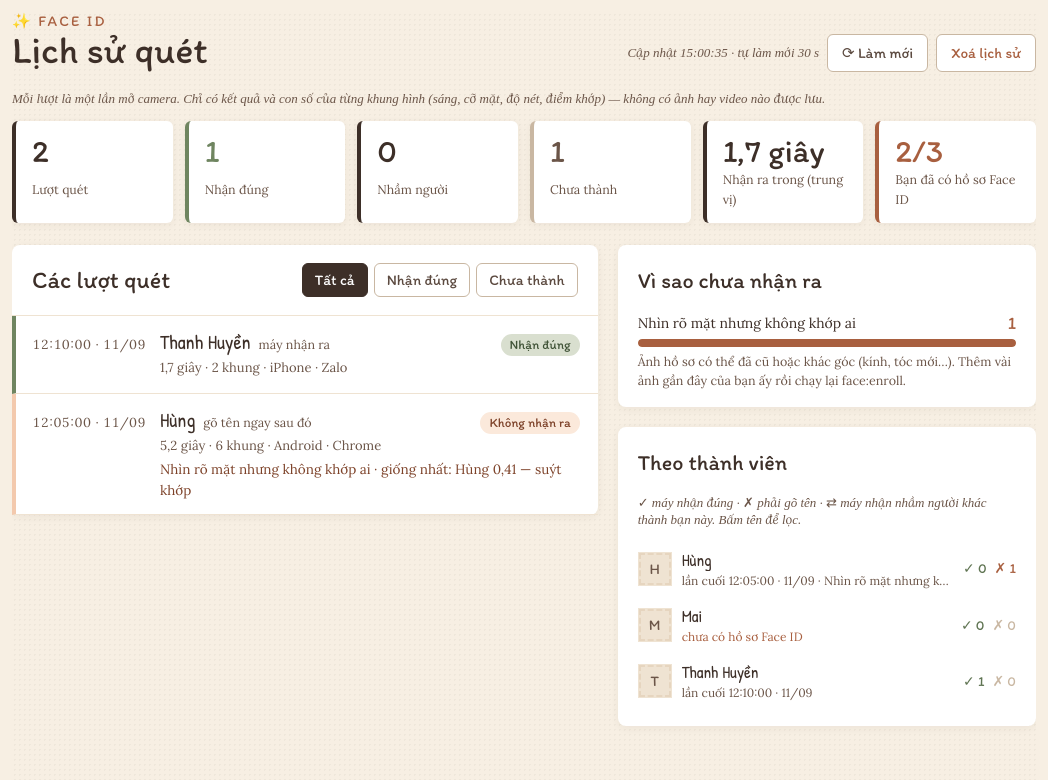
Test case: opening a scan loads its frames and flags the numbers below the quality gate
This screenshot has width=1048, height=780.
Click the button "Hùng": (307, 454) [16,394,598,514]
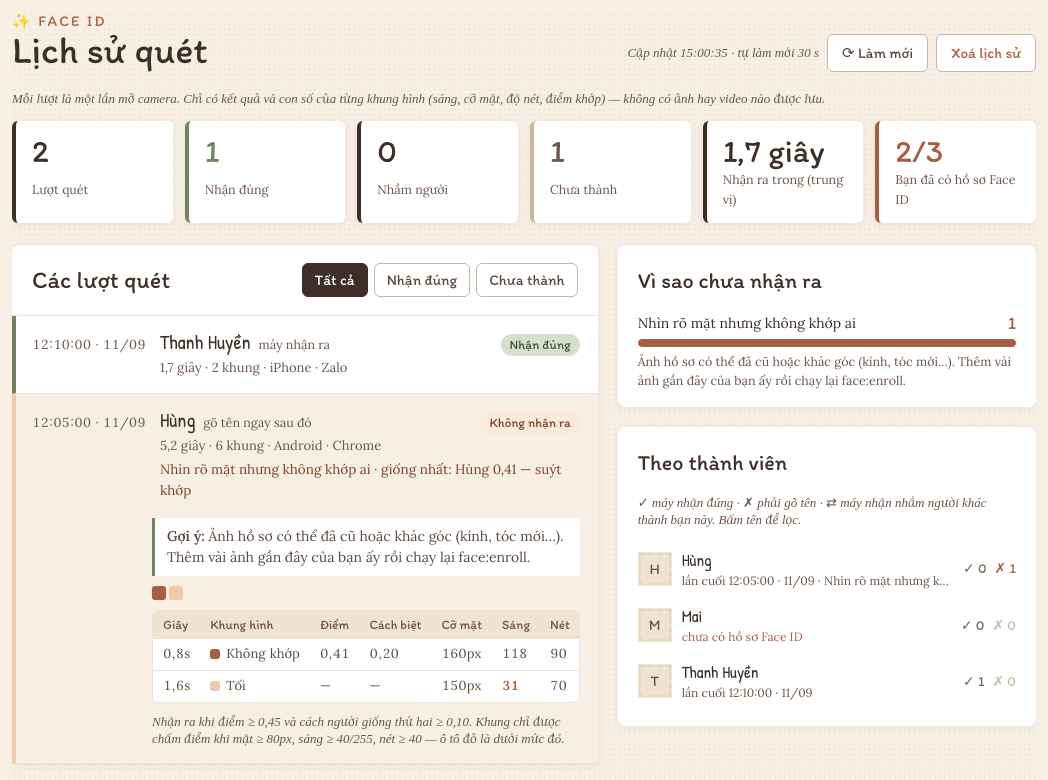
Result: the number of rows is 3 at [153,611,580,638]; [153,638,580,670]; [153,670,580,702]
Result: the text "Gợi ý:" is shown at [167,527,205,545]
